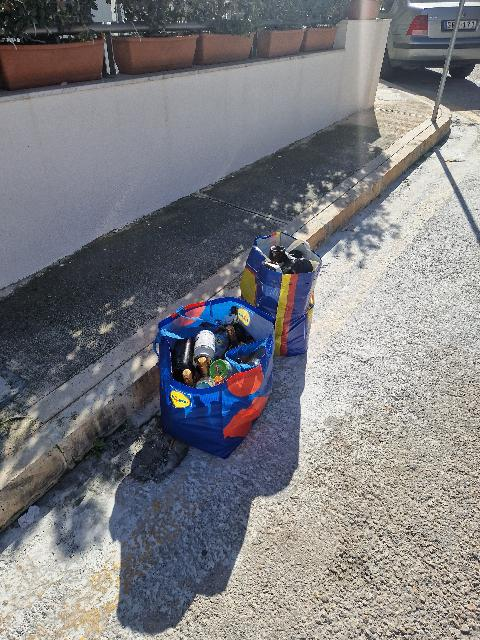Other: (153, 297, 275, 458), (240, 231, 322, 356)
